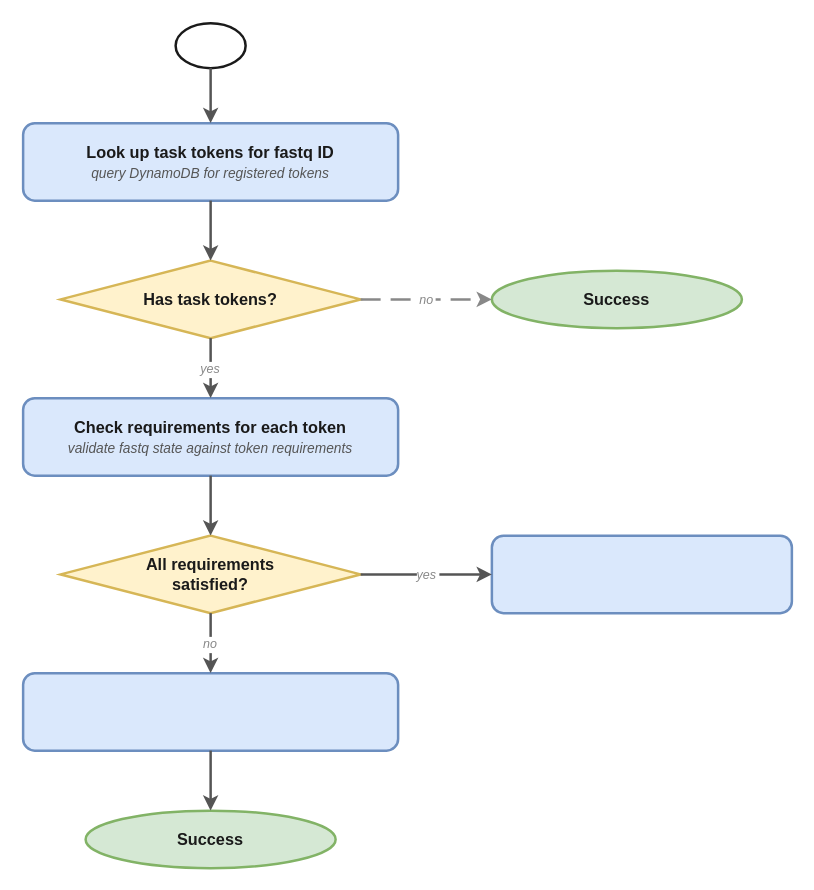
Image size: 814x890. Some labels were removed from this diagram. The shapes that lost their labels are listed below. From the top down, each one's centre as x and y in pixels, then its label:
point (210, 45): Start
point (641, 574): Send task success + clean up release token + remove DB entries
point (210, 711): Launch remaining requirements start sub-SFN for unsatisfied requirements
